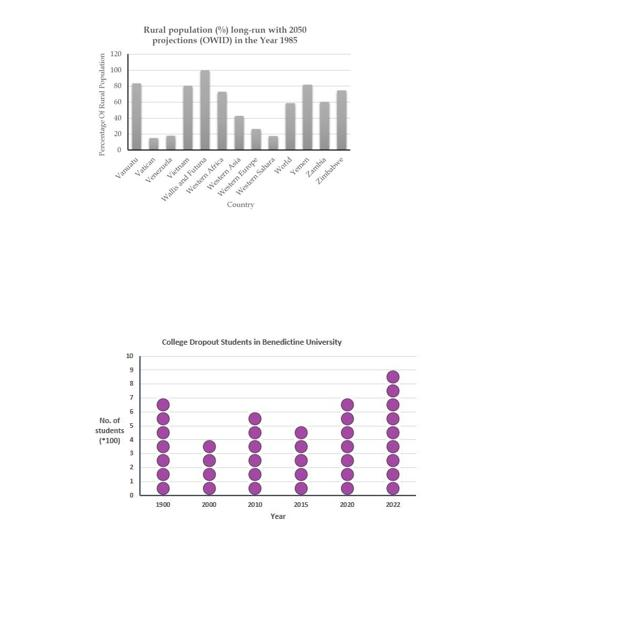Graph: (87, 332, 422, 529), (93, 23, 355, 213)
